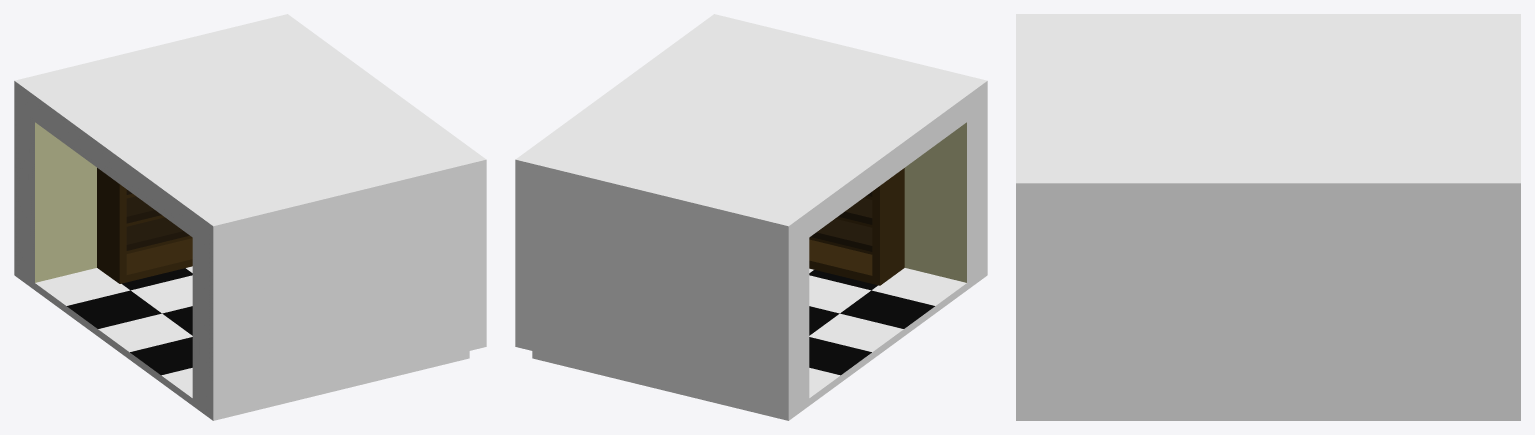
File: backgroundgameFH.FBX
3 renders of one model, left to right at view 1: azimuth 30°, elevation 25°; view 2: azimuth 150°, elevation 25°; view 3: azimuth 270°, elevation 25°, orthographic. The views are drawn at different scales.
Visible parts, largest first — view 1: Box001; view 2: Box001; view 3: Box001.
Boxes of the visible parts, x1,y1,x2,y2 form: Box001: (14, 14, 486, 420); Box001: (515, 14, 987, 420); Box001: (1016, 14, 1520, 420).
Size of the model in its own units: 1920 by 1307 by 2420.
